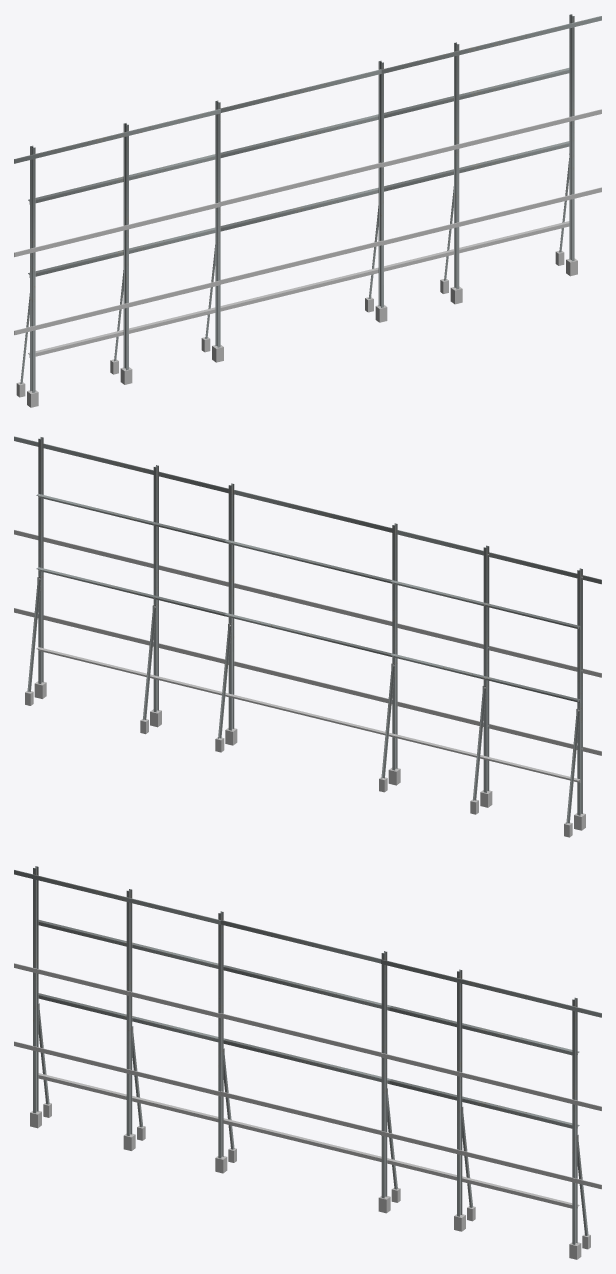
Rendered from signboardframe02c.fbx.
3 views of the same model, one above another, from view 1: azimuth 30°, elevation 25°; view 2: azimuth 150°, elevation 25°; view 3: azimuth 330°, elevation 25° (orthographic).
Visible parts, largest first — view 1: signboardframe02c; view 2: signboardframe02c; view 3: signboardframe02c.
Boxes of the visible parts, box(x1,y1,x2,y2) form: signboardframe02c: box(14, 14, 601, 407); signboardframe02c: box(14, 436, 601, 837); signboardframe02c: box(14, 866, 601, 1259).
Size of the model in its own units: 758 by 319 by 34.21.
